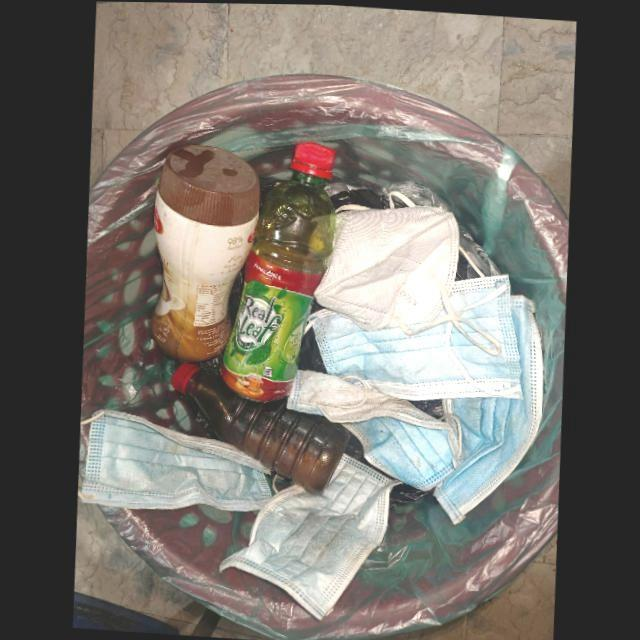plastic_bottle: (219, 140, 335, 401), (149, 143, 259, 362), (169, 362, 348, 493)
